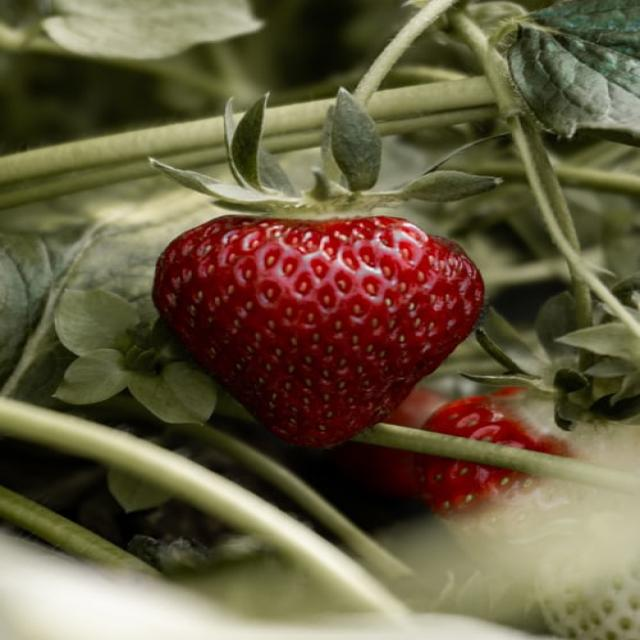mature: (153, 213, 485, 452)
